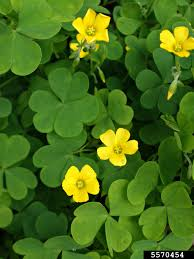clover: (71, 178, 145, 258), (27, 66, 101, 137), (1, 1, 62, 76), (139, 181, 194, 243), (1, 132, 39, 201), (160, 90, 194, 155)
yellow wood sorrel: (96, 126, 139, 167), (71, 7, 111, 45), (62, 164, 101, 202), (158, 26, 194, 59)
